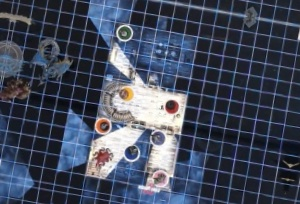blue: (121, 141, 143, 165)
green: (113, 20, 136, 45)
orange: (93, 114, 113, 135)
pink: (148, 164, 172, 189)
red: (160, 96, 183, 114)
violet: (146, 125, 170, 149)
yellow: (113, 80, 136, 103)
